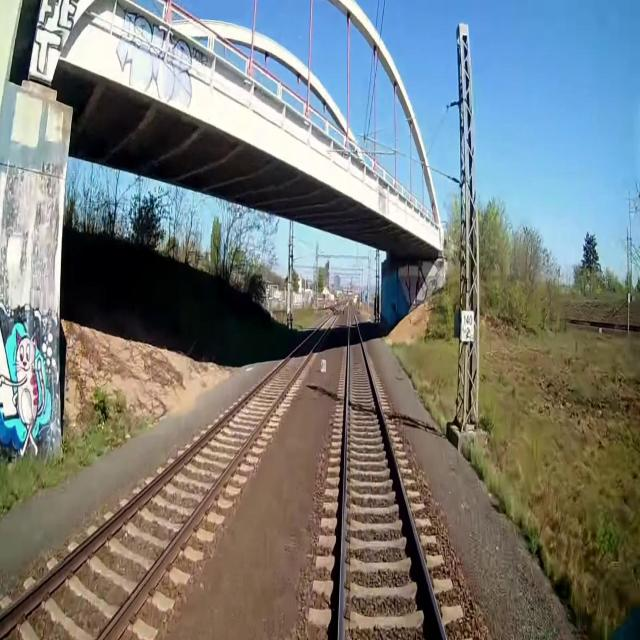rail-track: (0, 311, 336, 639), (344, 305, 442, 639)
